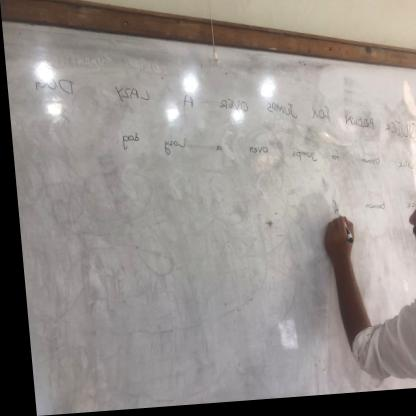Handwritten text: (316, 196, 388, 223)
Lecturer: (333, 163, 416, 397)
